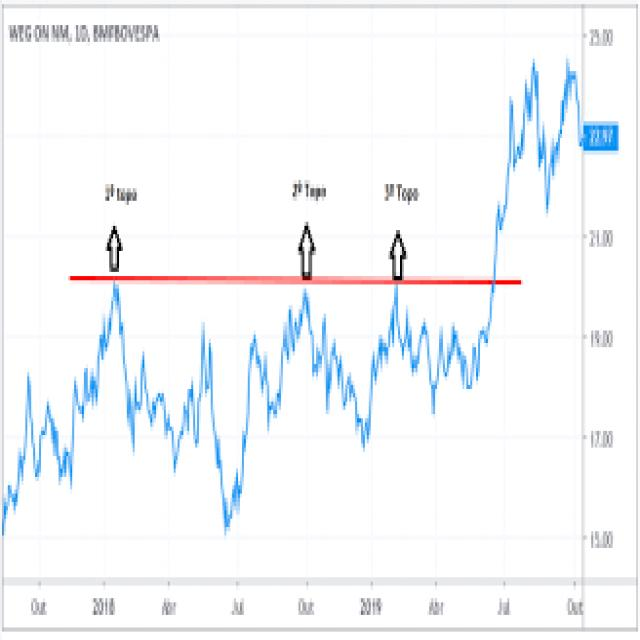fundo_duplo: (46, 365, 84, 502)
oco_inv: (393, 285, 472, 423)
